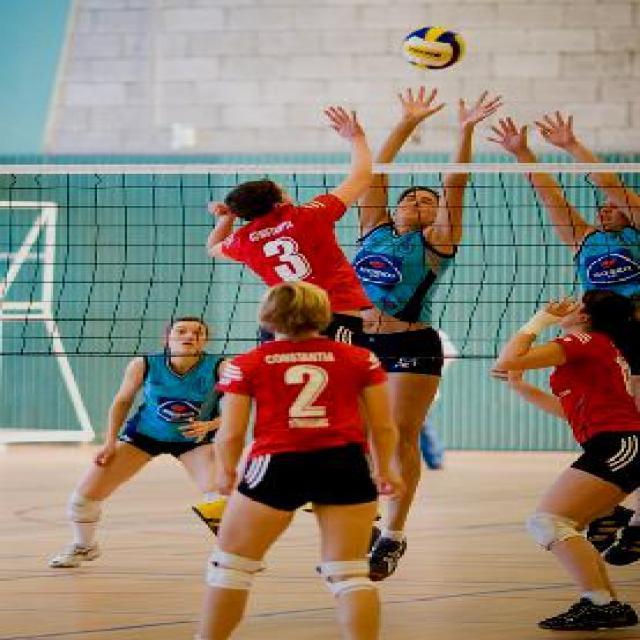volleyball: (402, 26, 466, 70)
